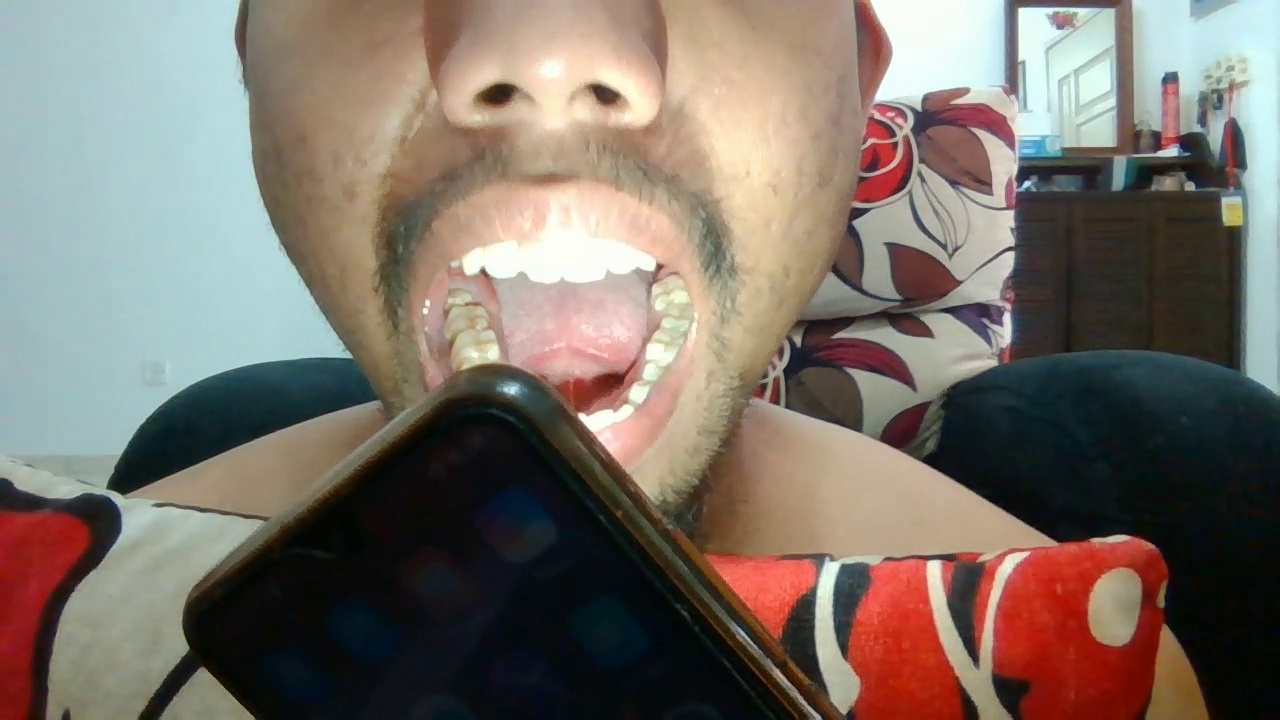1st Molar: (449, 328, 501, 360), (645, 329, 689, 362)
1st Premolar: (627, 380, 663, 405)
2nd Molar: (445, 305, 490, 330), (658, 306, 695, 330)
2nd Premolar: (642, 360, 673, 381)
3rd Molar: (650, 273, 691, 308), (447, 288, 474, 306)
Canine: (462, 246, 483, 277), (638, 249, 657, 272), (615, 403, 634, 422)
Central Incisor: (562, 238, 606, 284), (520, 237, 562, 283)
Lateral Incisor: (483, 240, 520, 278), (606, 243, 638, 274), (588, 409, 615, 431)
